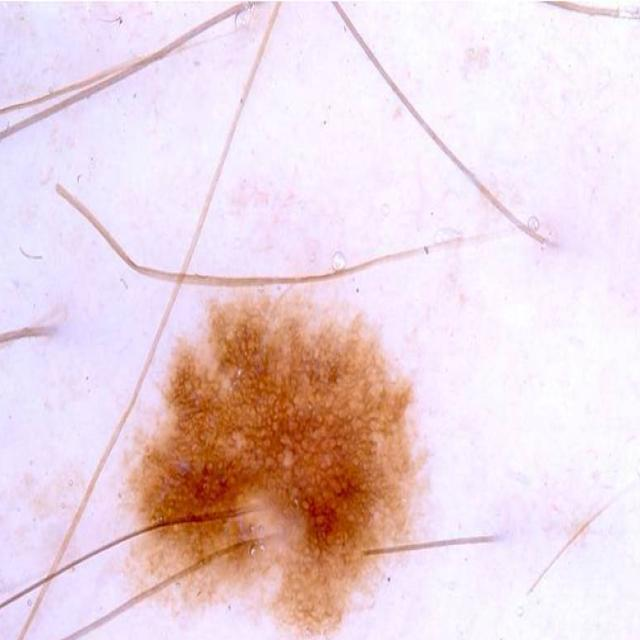Melanoma: (140, 248, 462, 640)
